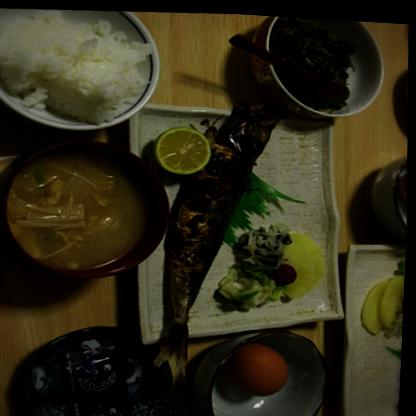grilled mackerel: (139, 88, 294, 365)
miso soup: (0, 137, 173, 278)
rice ball: (0, 2, 167, 138)
